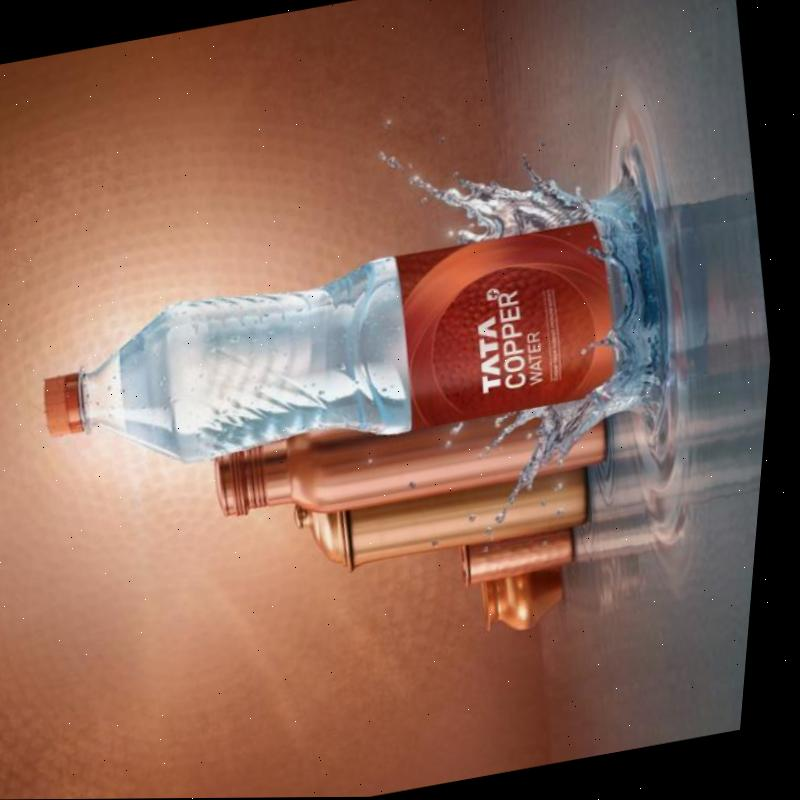botella: (32, 210, 682, 497)
